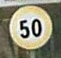limite 50: (7, 5, 53, 50)
